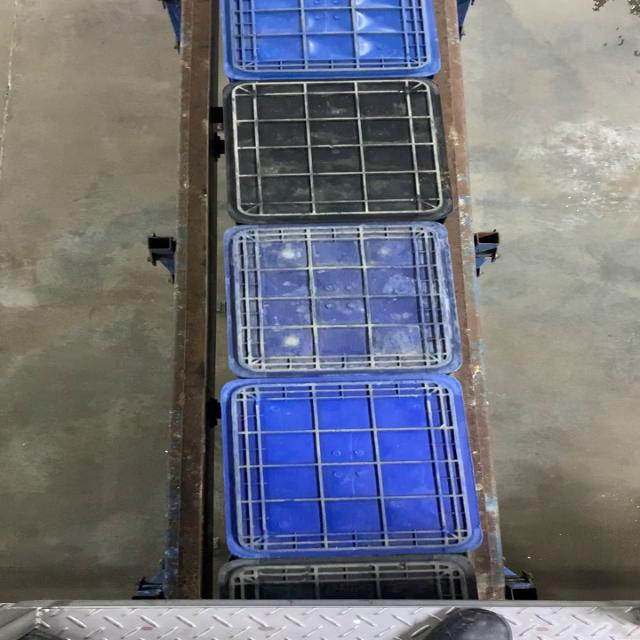Box: (220, 377, 482, 557), (224, 222, 460, 378), (222, 78, 452, 224)
